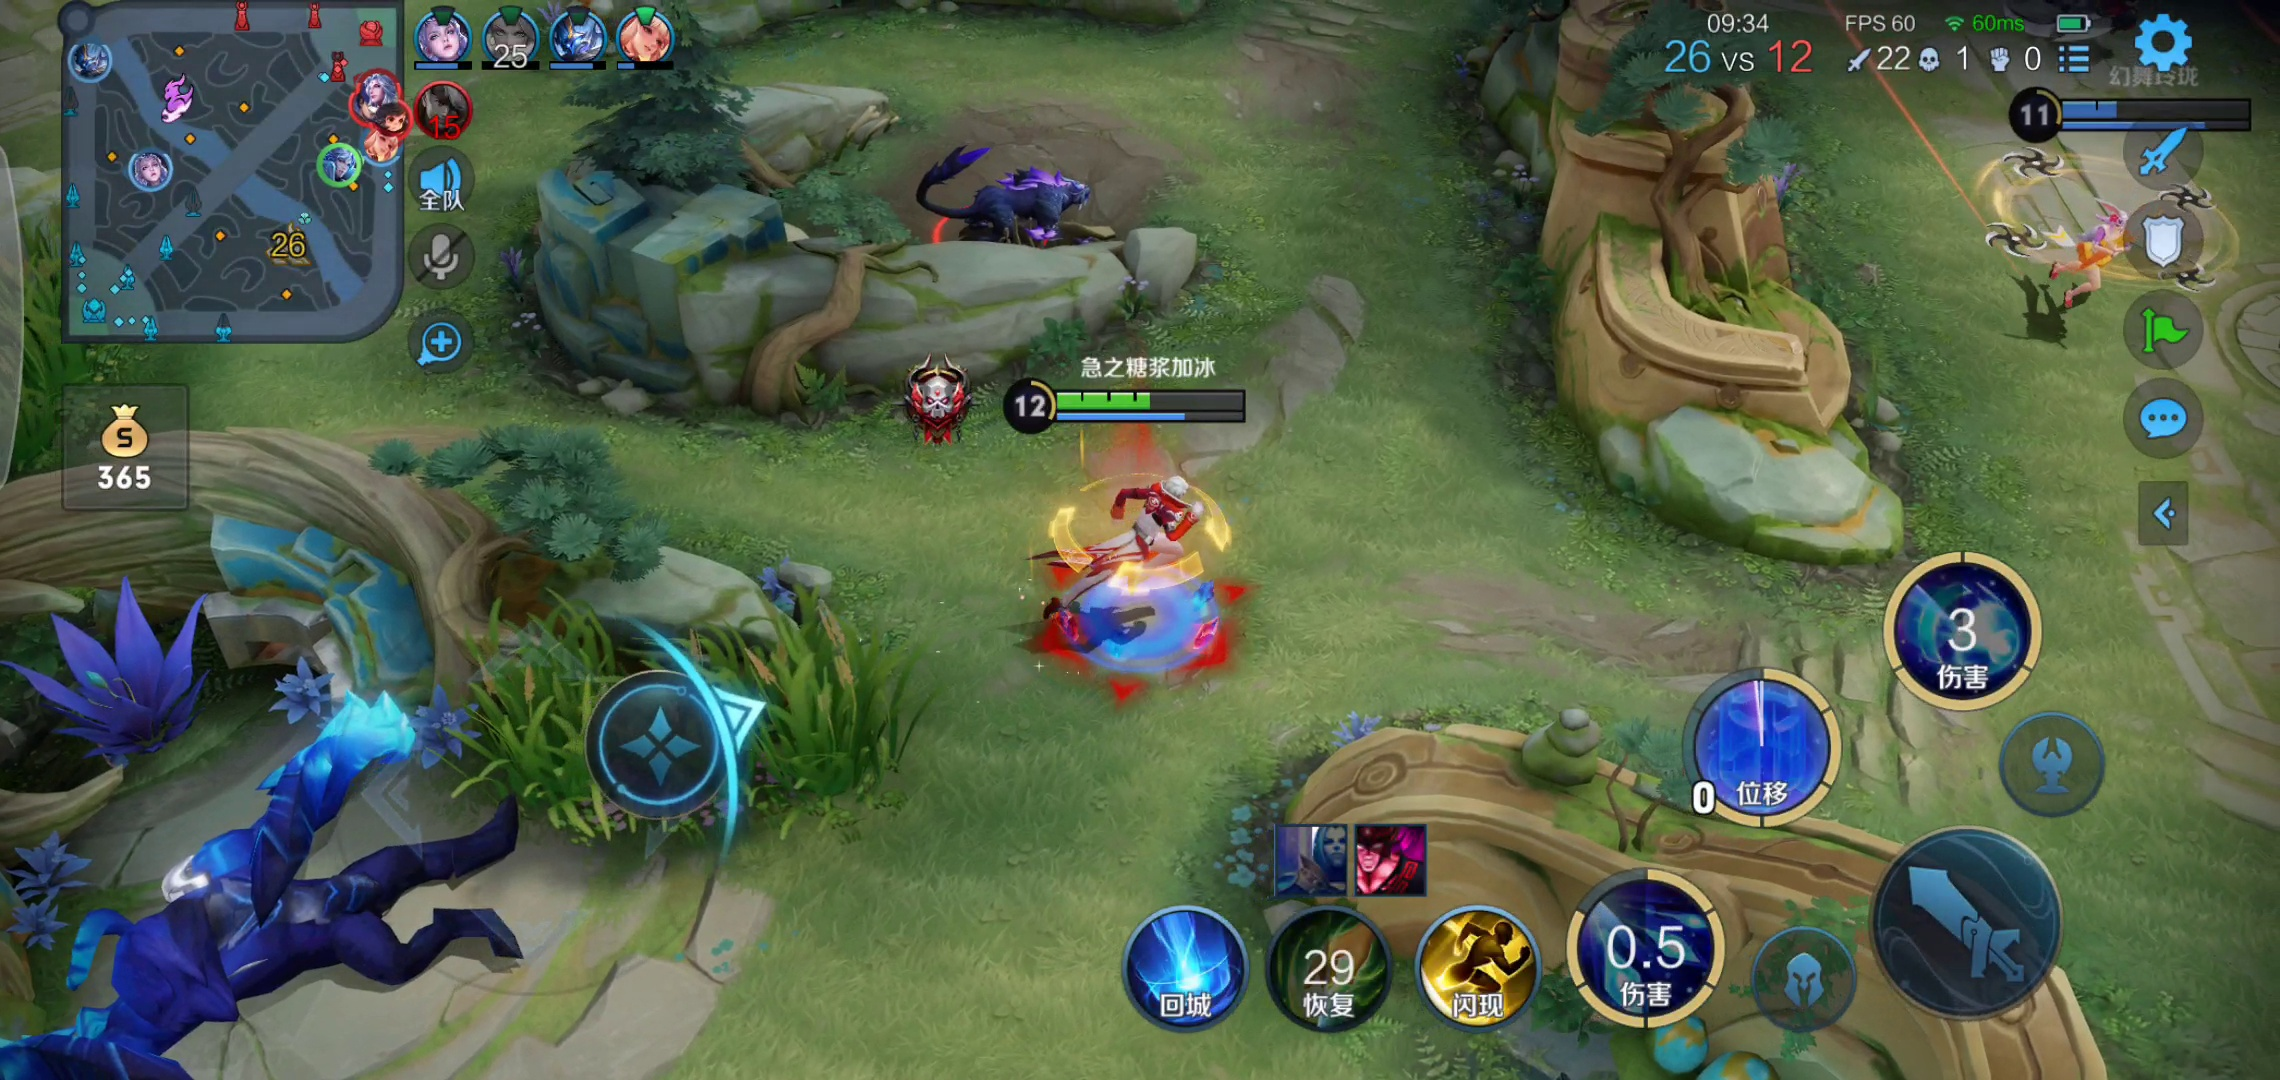buff: (20, 702, 505, 1080)
grass: (465, 605, 903, 804), (3, 228, 103, 475)
hero: (1031, 462, 1237, 688), (1991, 173, 2204, 344)
wild_monster: (854, 135, 1121, 256)
